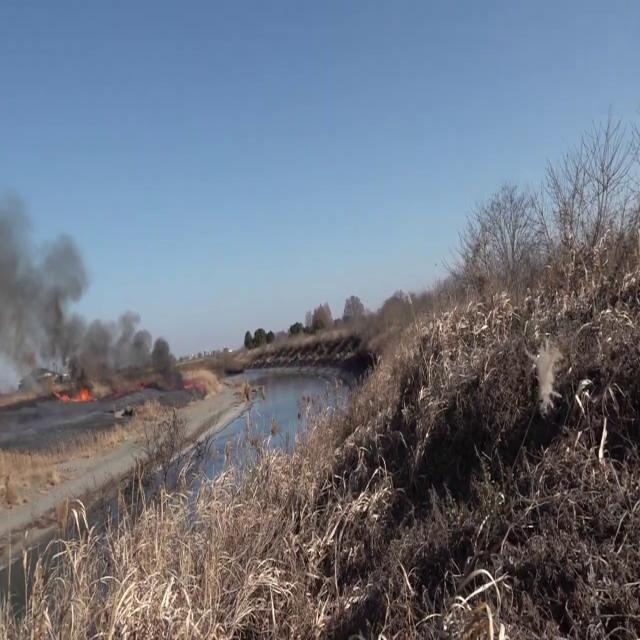Smoke: (0, 186, 181, 397)
